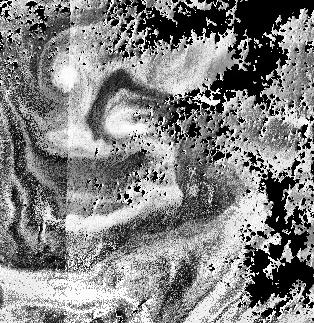CE: (34, 42, 102, 107)
